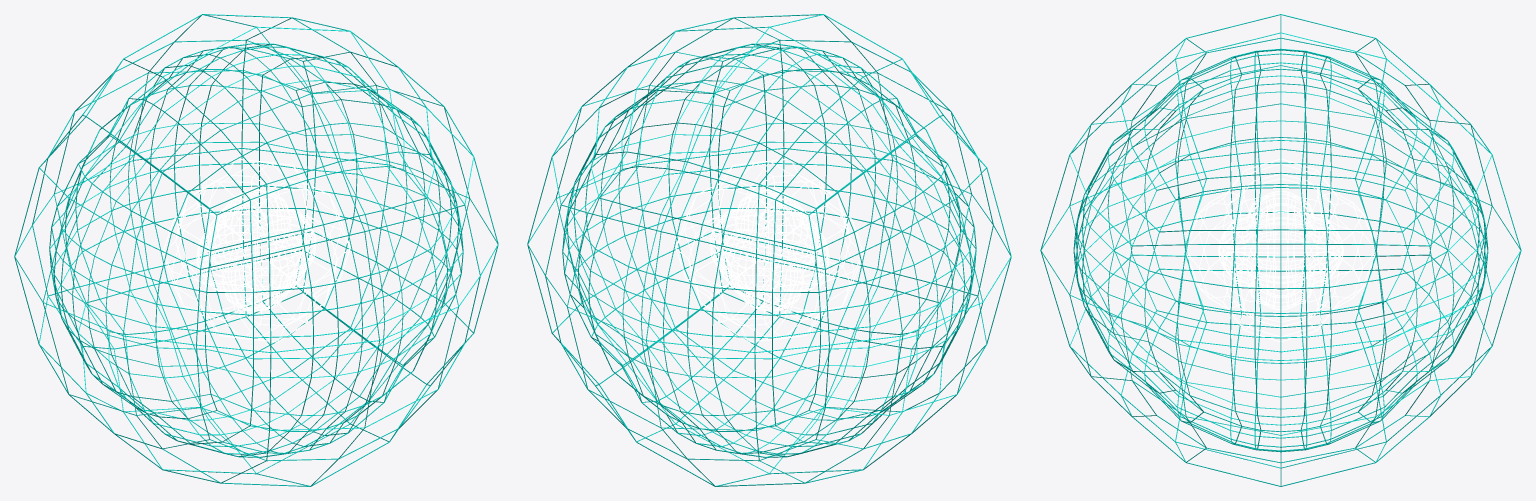
The model's file is blueball.glb.
3 views of the same model, side by side, from view 1: azimuth 30°, elevation 25°; view 2: azimuth 150°, elevation 25°; view 3: azimuth 270°, elevation 25° (orthographic). The views are drawn at different scales.
Parts seen in each view (by area): view 1: Cube, Cube.001; view 2: Cube, Cube.001; view 3: Cube, Cube.001.
Boxes of the visible parts, left/top/right/bottom form: Cube: left=14, top=14, right=498, bottom=486; Cube.001: left=162, top=158, right=350, bottom=342; Cube: left=527, top=14, right=1011, bottom=486; Cube.001: left=675, top=158, right=863, bottom=342; Cube: left=1040, top=14, right=1521, bottom=486; Cube.001: left=1185, top=158, right=1376, bottom=342.
Size of the model in its own units: 14.09 by 14.09 by 14.09.
